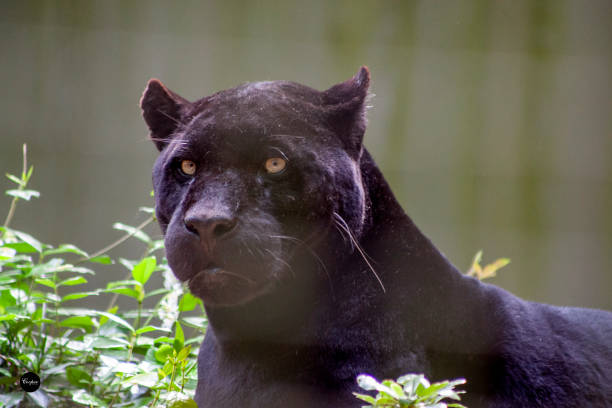panther: (118, 52, 409, 340)
